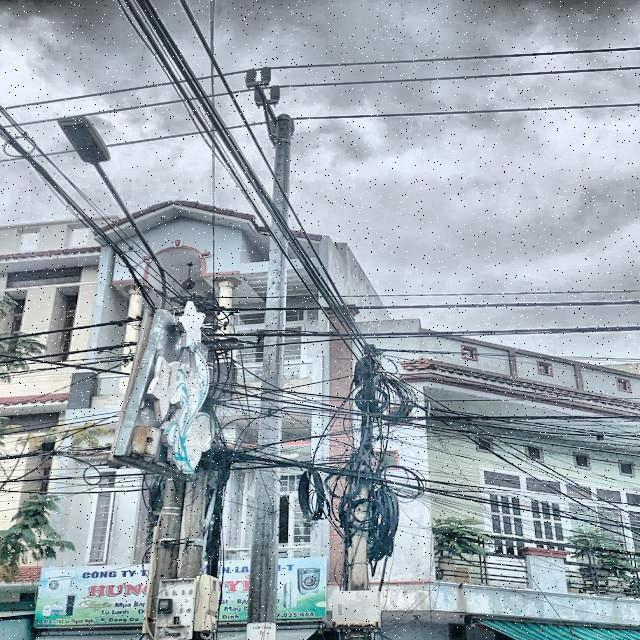pole: (243, 114, 292, 640)
wire: (0, 100, 640, 169), (0, 65, 640, 130), (0, 46, 640, 108)
